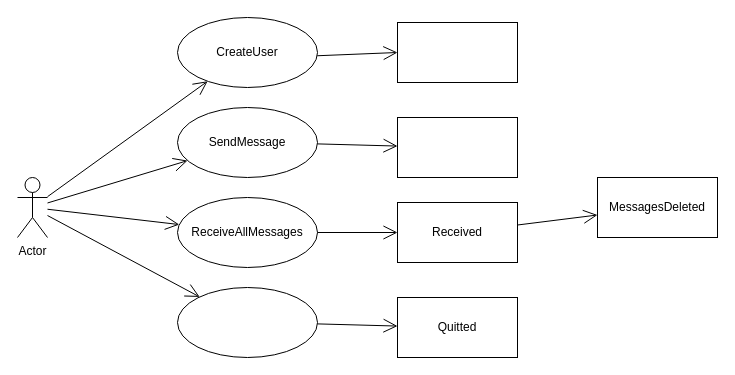
Some shapes in this 735 by 375 pixel diagram are drawn without their labels. Each missing label, with the centre of its shape:
"Created" goes at pixel 457 52.
"Quit" goes at pixel 247 322.
"Sent" goes at pixel 457 147.
